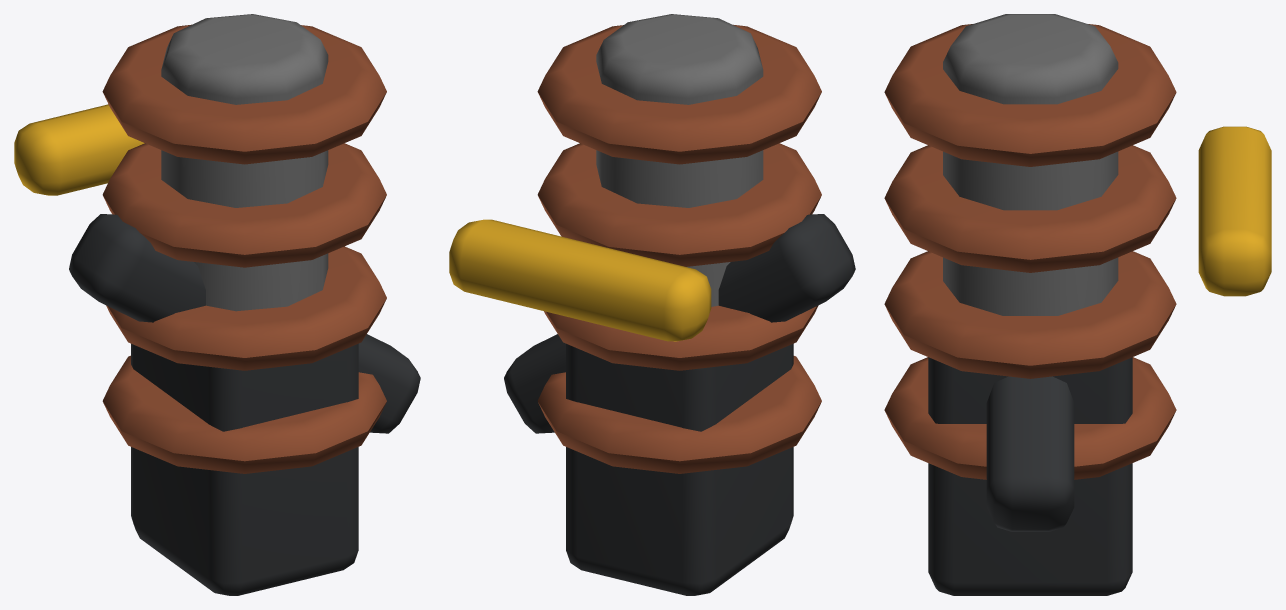
The model's file is suspension-steering.glb.
3 renders of one model, left to right at view 1: azimuth 30°, elevation 25°; view 2: azimuth 150°, elevation 25°; view 3: azimuth 270°, elevation 25°, orthographic. The views are drawn at different scales.
Visible parts, largest first — view 1: suspension-steering; view 2: suspension-steering; view 3: suspension-steering.
Boxes of the visible parts, x1,y1,x2,y2 form: suspension-steering: (14,14,420,595); suspension-steering: (449,14,855,595); suspension-steering: (884,14,1271,595).
Bounding box in the file's own units: 0.2659 × 0.4 × 0.265.
